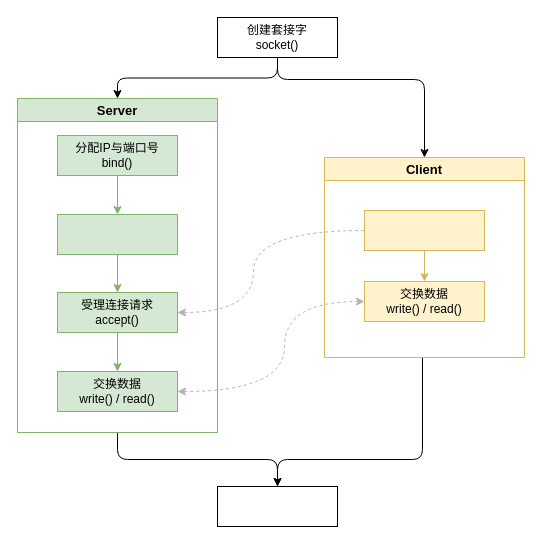
Image size: 542x544. Some labels were removed from this diagram. Here are the shapes that lost their labels. From the top down, the centre of each, then its label:
At (x=117, y=234): "切换为可接受状态 listen()".
At (x=424, y=230): "发送连接请求 connect()".
At (x=277, y=506): "关闭连接 close()".
